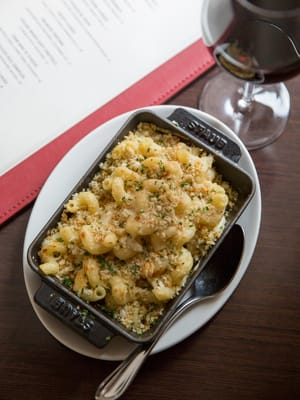pizza: (200, 0, 300, 151)
sushi: (10, 106, 260, 397)
